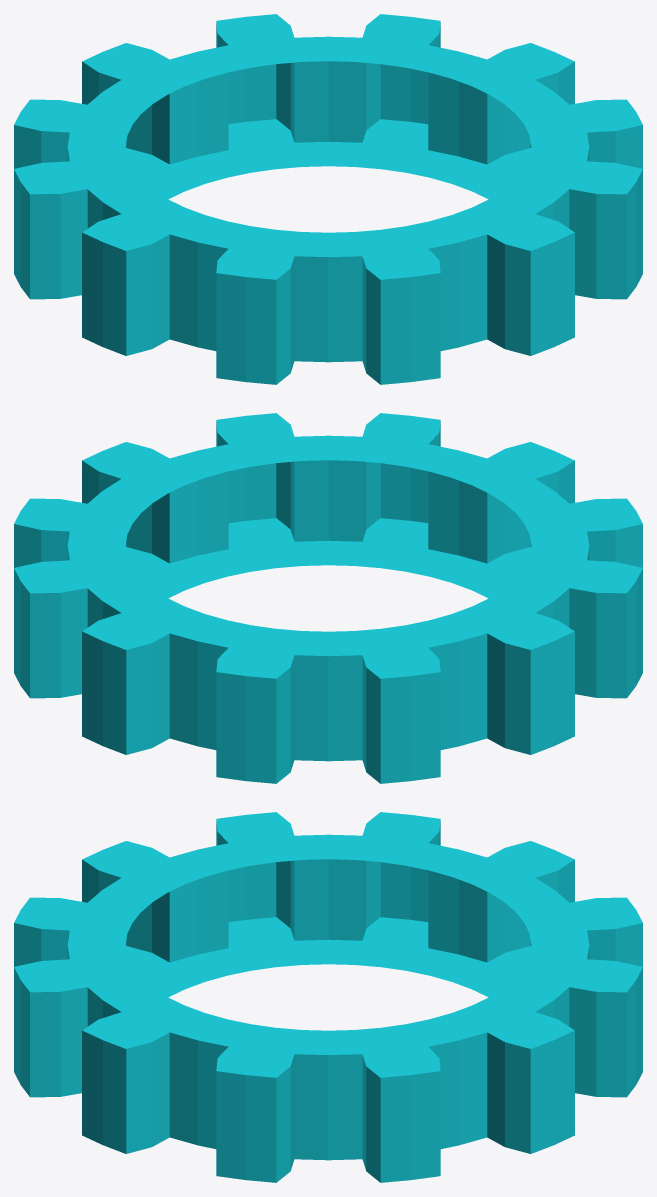
File: gear.gltf
3 views of the same model, one above another, from view 1: azimuth 30°, elevation 25°; view 2: azimuth 150°, elevation 25°; view 3: azimuth 270°, elevation 25° (orthographic).
Visible parts, largest first — view 1: Gear; view 2: Gear; view 3: Gear.
Part boxes in pixels (x1,y1,x2,y2): Gear: [14, 14, 642, 384]; Gear: [14, 413, 642, 783]; Gear: [14, 812, 642, 1182].
Size of the model in its own units: 2.17 by 0.4 by 2.17.
